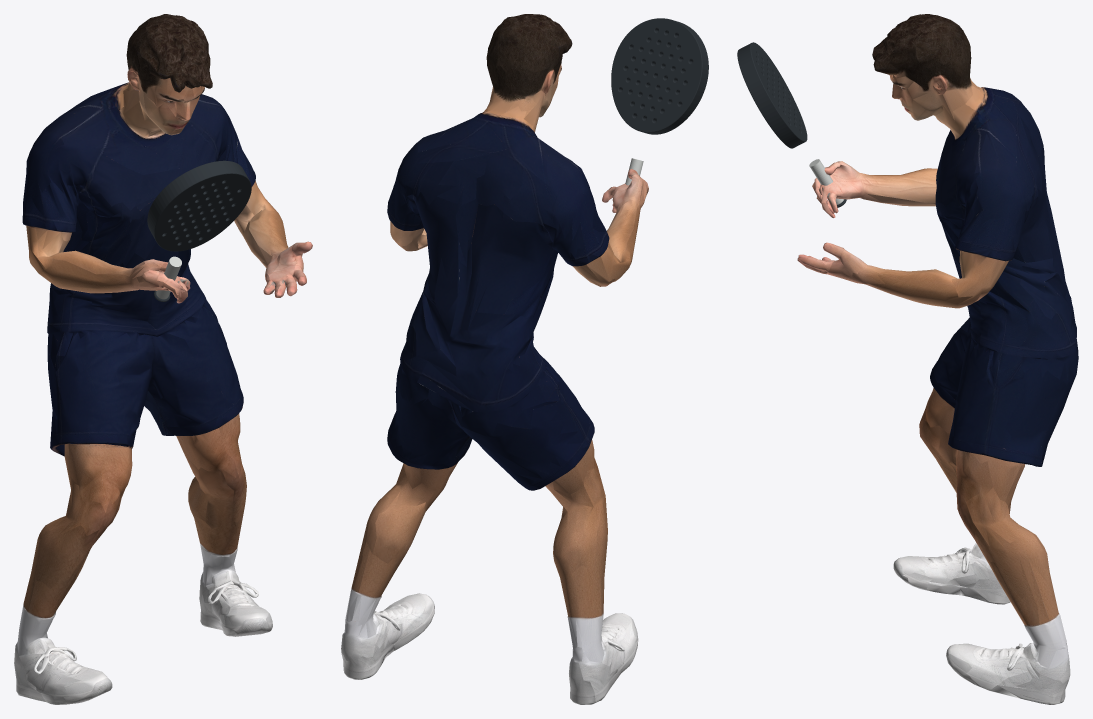
Rendered from player-navy.glb.
3 views of the same model, side by side, from view 1: azimuth 30°, elevation 25°; view 2: azimuth 150°, elevation 25°; view 3: azimuth 270°, elevation 25° (orthographic). The views are drawn at different scales.
Parts seen in each view (by area): view 1: Coello - Meshy generic athlete / body.001, Equipment v3 player 1 / Refined racket blade.002; view 2: Coello - Meshy generic athlete / body.001, Equipment v3 player 1 / Refined racket blade.002; view 3: Coello - Meshy generic athlete / body.001, Equipment v3 player 1 / Refined racket blade.002.
Part boxes in pixels (bbox=[...]): Coello - Meshy generic athlete / body.001: bbox=[14, 14, 312, 704]; Equipment v3 player 1 / Refined racket blade.002: bbox=[147, 160, 251, 251]; Coello - Meshy generic athlete / body.001: bbox=[341, 14, 648, 704]; Equipment v3 player 1 / Refined racket blade.002: bbox=[611, 18, 708, 134]; Coello - Meshy generic athlete / body.001: bbox=[797, 14, 1078, 704]; Equipment v3 player 1 / Refined racket blade.002: bbox=[737, 42, 807, 148].
Size of the model in its own units: 0.6202 by 1.6 by 0.7839.
3 materials, 1 textured.
